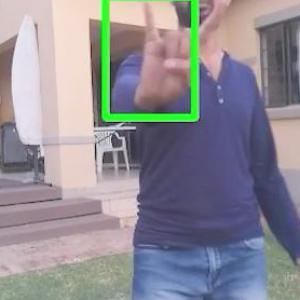takeoff-hand: (130, 0, 240, 110)
